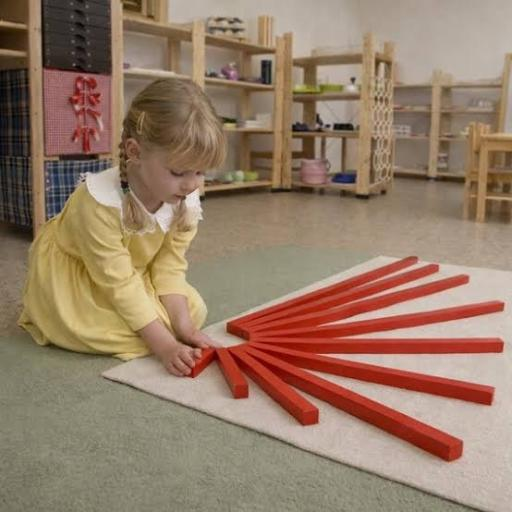red rods: (184, 254, 508, 466), (460, 120, 512, 223)
